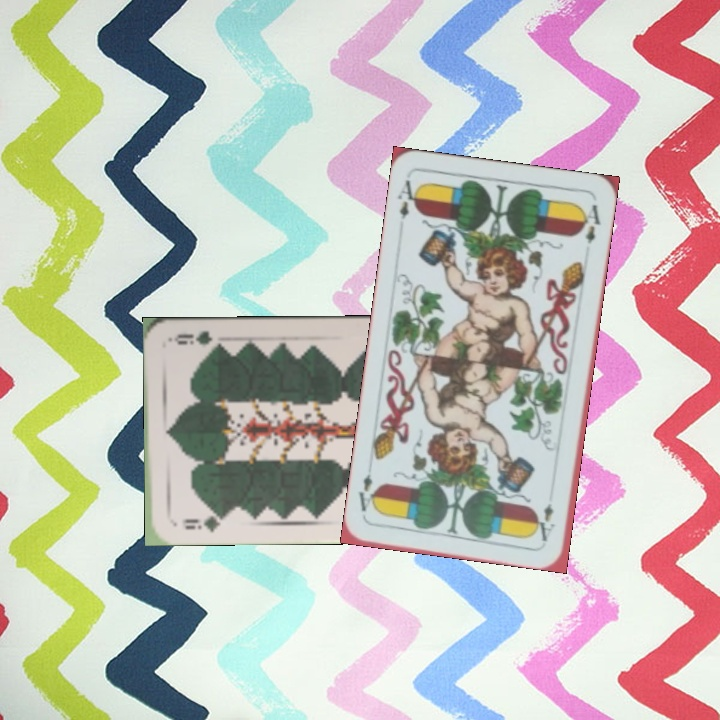EA: (393, 175, 423, 222), (536, 499, 557, 544)
G9: (180, 510, 228, 535)
